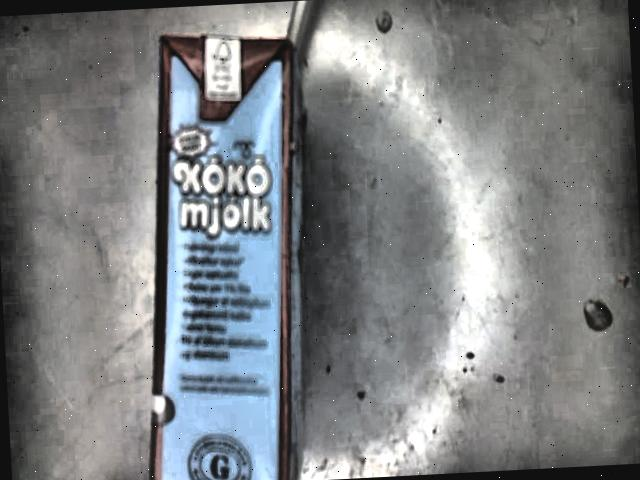Paper: (149, 34, 306, 480), (284, 1, 314, 48)
